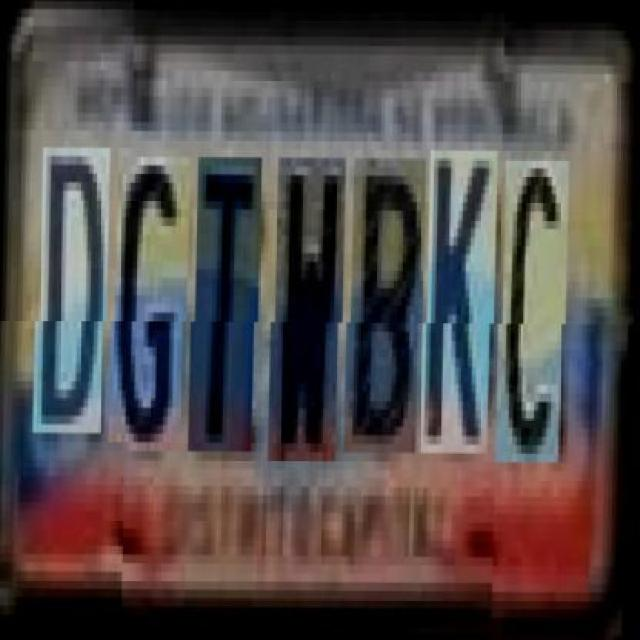b: (349, 158, 426, 452)
c: (502, 150, 570, 453)
d: (39, 156, 112, 442)
g: (114, 157, 191, 451)
k: (426, 150, 500, 452)
t: (194, 157, 261, 451)
w: (274, 157, 348, 460)
